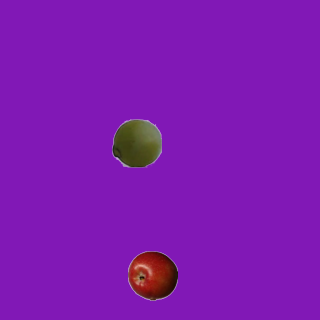Apple Braeburn: (127, 250, 177, 300)
Grape White 4: (111, 117, 161, 167)
